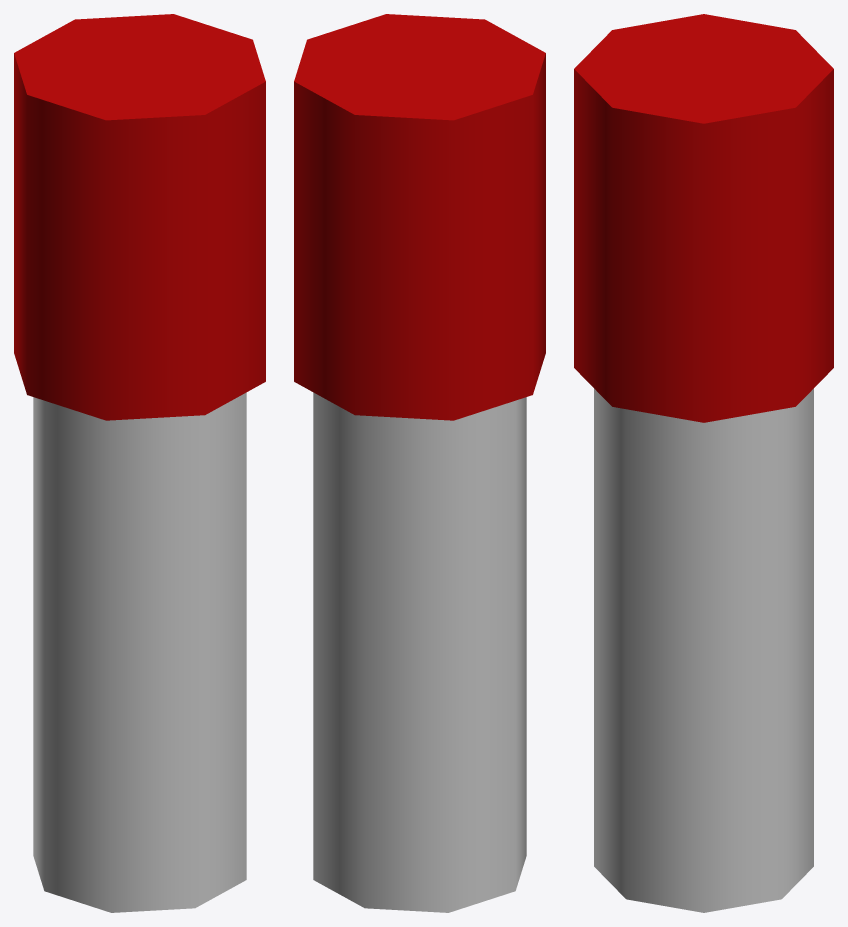
File: PlasticVial01.fbx
3 renders of one model, left to right at view 1: azimuth 30°, elevation 25°; view 2: azimuth 150°, elevation 25°; view 3: azimuth 270°, elevation 25°, orthographic.
Visible parts, largest first — view 1: PlasticVial01; view 2: PlasticVial01; view 3: PlasticVial01.
Part boxes in pixels (x1,y1,x2,y2): PlasticVial01: (14,14,265,912); PlasticVial01: (294,14,545,912); PlasticVial01: (574,14,833,912).
Size of the model in its own units: 2.95 by 2.95 by 10.
